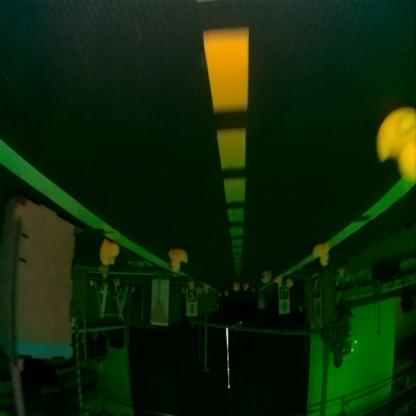Duckie: (377, 111, 414, 182), (99, 241, 120, 266), (168, 253, 186, 273), (314, 243, 328, 267), (274, 280, 280, 288), (261, 275, 267, 282), (245, 284, 249, 292), (288, 280, 292, 288), (233, 283, 236, 291)
Intersection sign: (280, 305, 286, 315)
QR code: (312, 276, 320, 300), (280, 288, 288, 298)
Signal sign: (188, 305, 193, 317)
